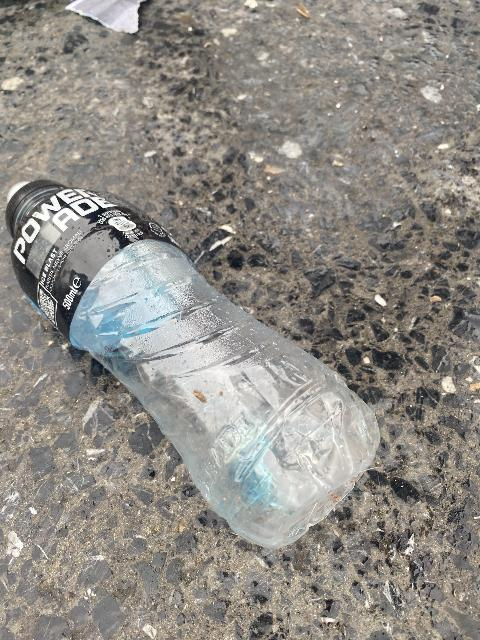Plastik: (2, 173, 381, 535)
